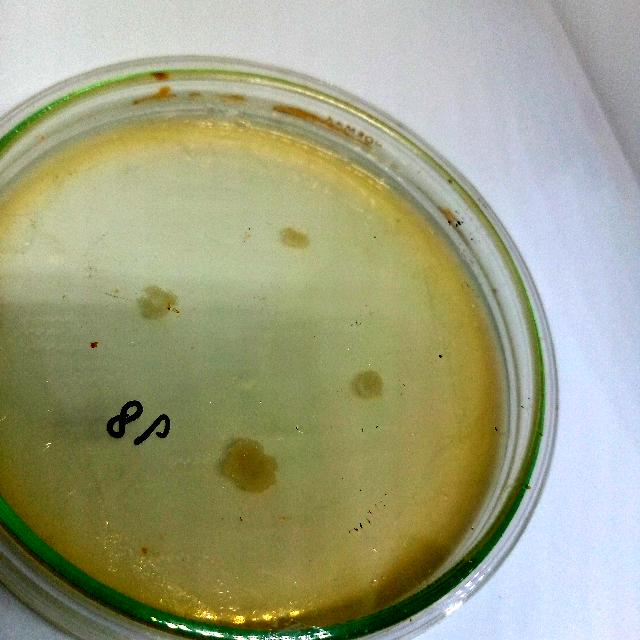colony: (212, 430, 280, 500), (133, 282, 181, 324), (350, 366, 386, 402), (280, 222, 312, 252)
